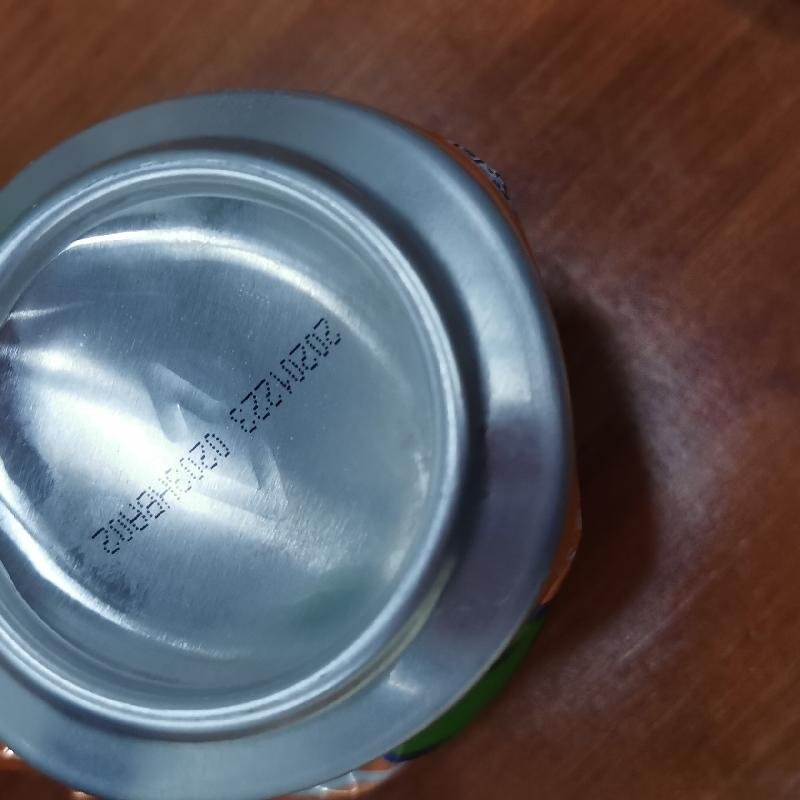cans: (3, 86, 592, 799)
